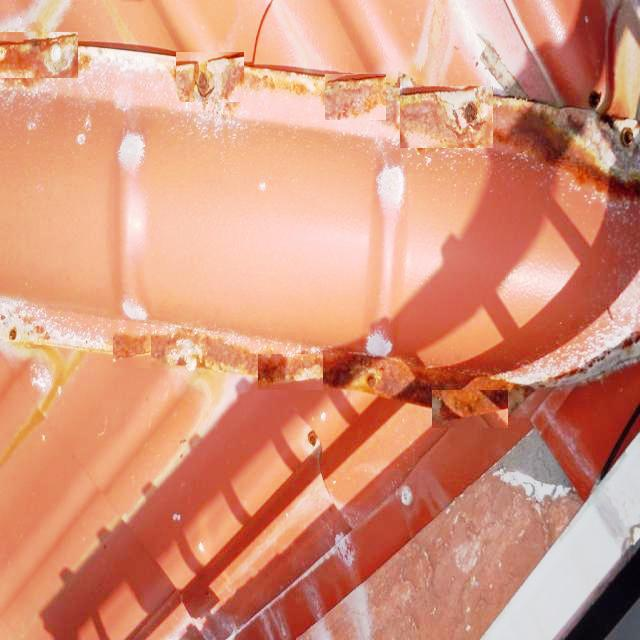Corrosion: (175, 54, 335, 101), (113, 335, 257, 365), (0, 34, 76, 76), (493, 124, 575, 162), (401, 90, 452, 145), (324, 368, 415, 398), (325, 76, 386, 119), (452, 100, 494, 146), (438, 390, 502, 417), (559, 157, 612, 188), (258, 362, 324, 384), (610, 177, 640, 202), (360, 376, 415, 387), (258, 355, 320, 358)
